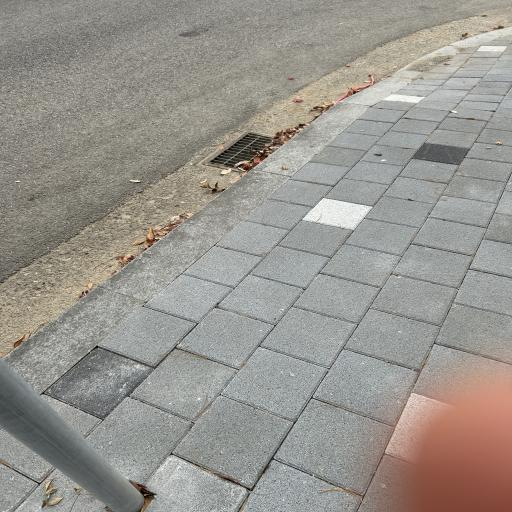drain: (215, 134, 292, 171)
